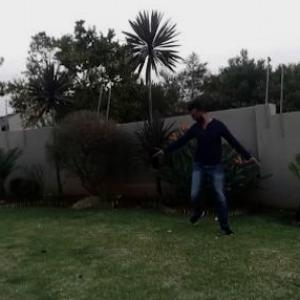land: (134, 89, 266, 250)
